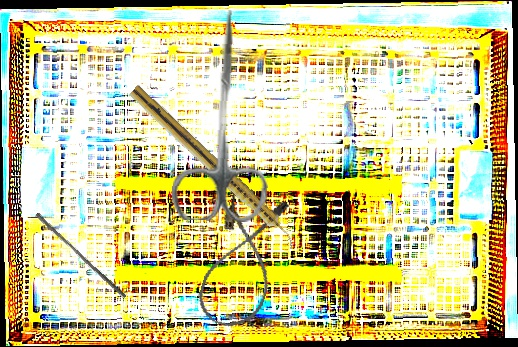Cannula: (192, 185, 294, 335)
Handpiece: (125, 84, 303, 251)
Iris Scissors: (171, 8, 274, 223)
Pusher: (32, 212, 130, 299)
